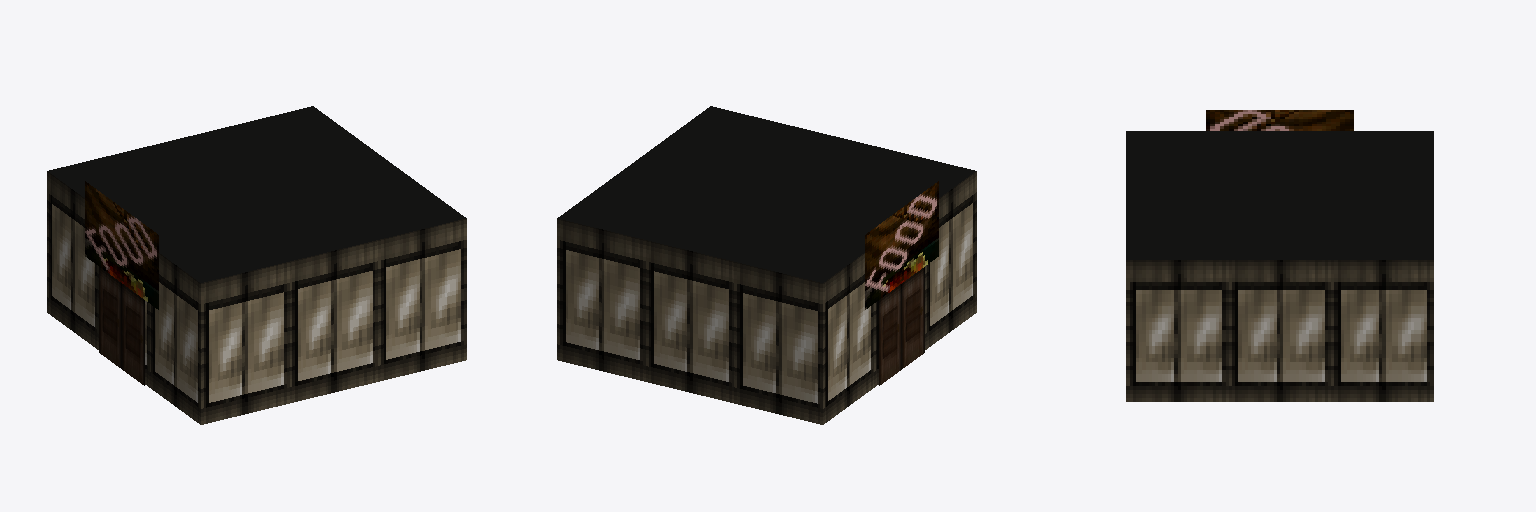
The picture shows the model from 3 angles: view 1: azimuth 30°, elevation 25°; view 2: azimuth 150°, elevation 25°; view 3: azimuth 270°, elevation 25°; orthographic projection.
Parts seen in each view (by area): view 1: shop2; view 2: shop2; view 3: shop2.
Part boxes in pixels (x1,y1,x2,y2): shop2: (47, 106, 466, 424); shop2: (557, 106, 976, 424); shop2: (1126, 110, 1433, 401).
Size of the model in its own units: 16.13 by 9.3 by 16.
Materials: 4 (3 with a texture image).